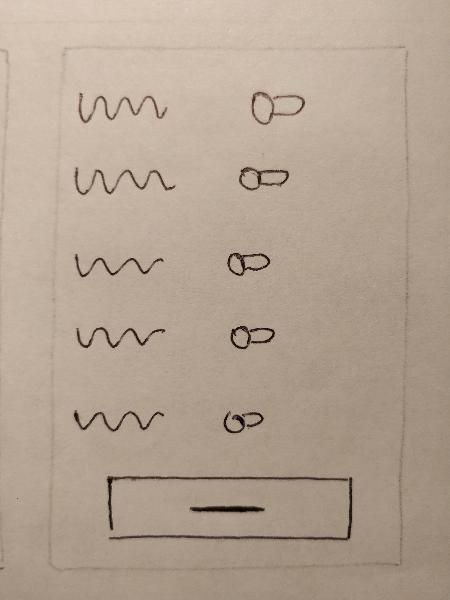button: (93, 467, 362, 549)
switch: (240, 78, 313, 131), (219, 310, 289, 364), (229, 157, 299, 203), (207, 402, 278, 438), (222, 244, 280, 285)
text: (62, 395, 170, 446), (72, 81, 168, 137), (64, 157, 176, 204), (67, 242, 167, 289), (63, 316, 169, 356)
